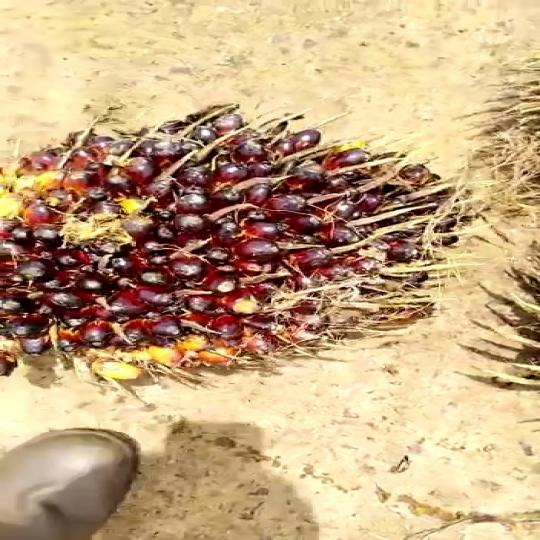mentah: (0, 96, 469, 385)
